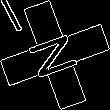N_E: (24, 27, 86, 83)
